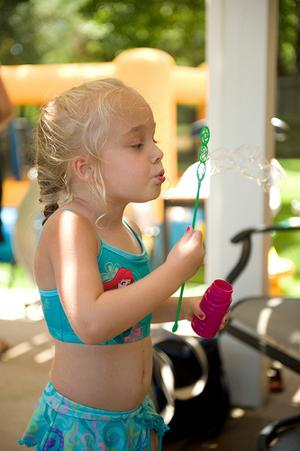person: (18, 77, 227, 449)
